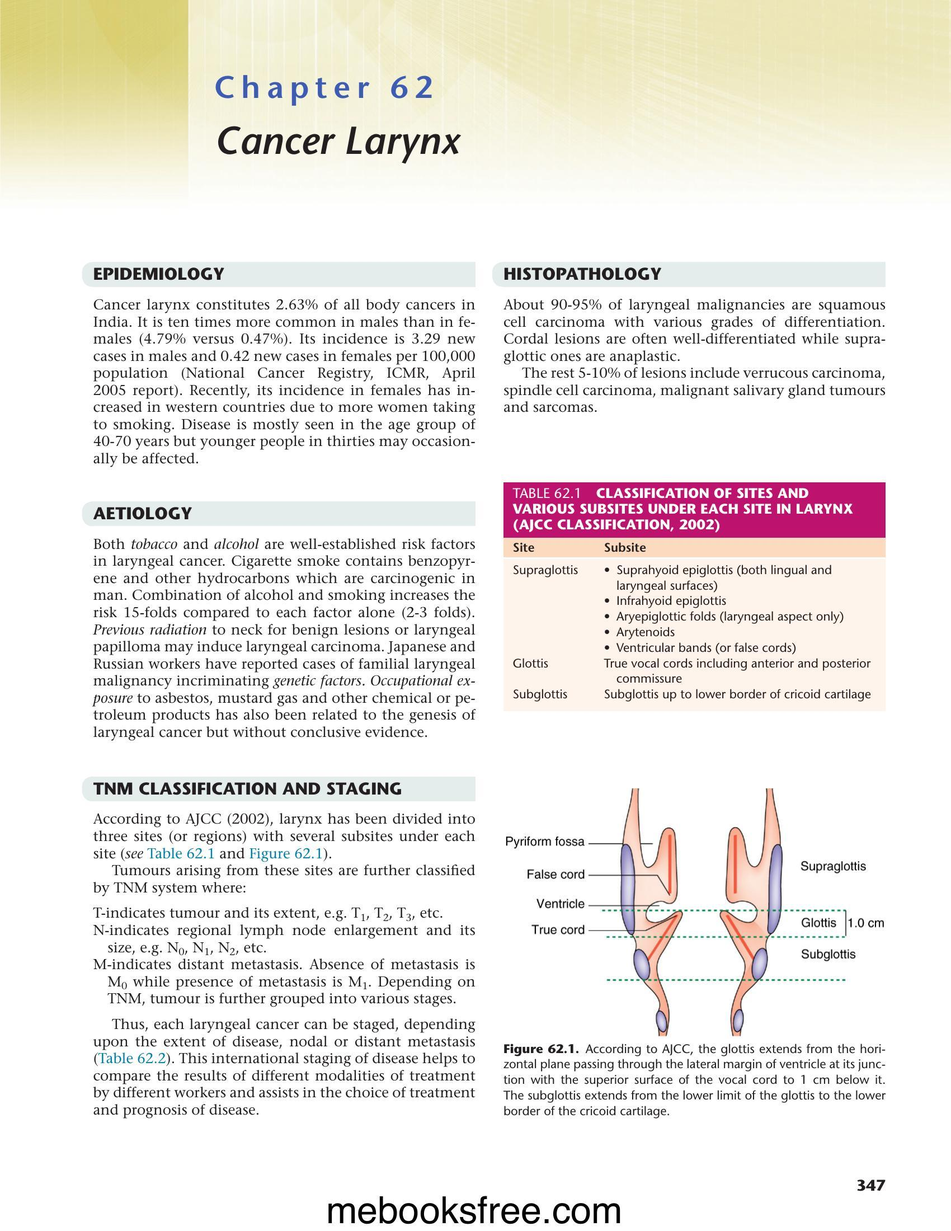caption: (503, 1042, 887, 1119), (511, 486, 855, 534)
chapter-heading: (215, 122, 464, 166)
image: (501, 784, 889, 1040)
section-heading: (91, 780, 404, 797), (503, 265, 663, 282), (93, 266, 226, 281), (92, 506, 193, 521)
table: (502, 538, 887, 713)
text: (91, 811, 478, 1121), (92, 535, 478, 742), (91, 297, 477, 468), (502, 297, 887, 413)
